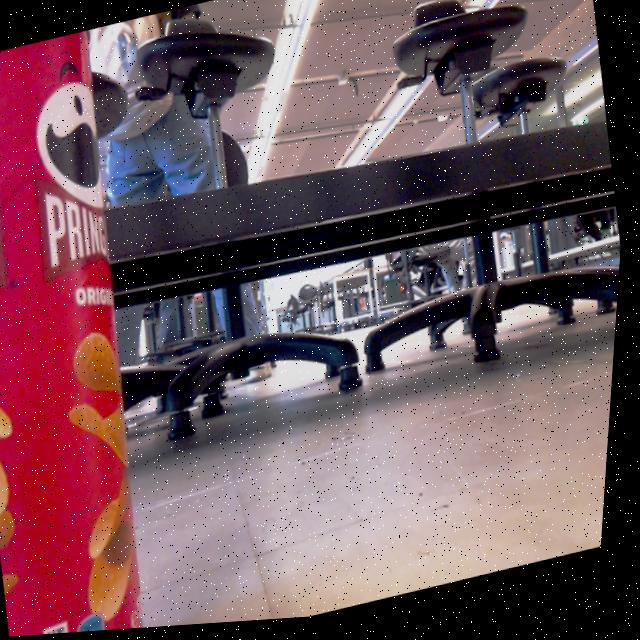redpringles: (0, 17, 234, 640)
